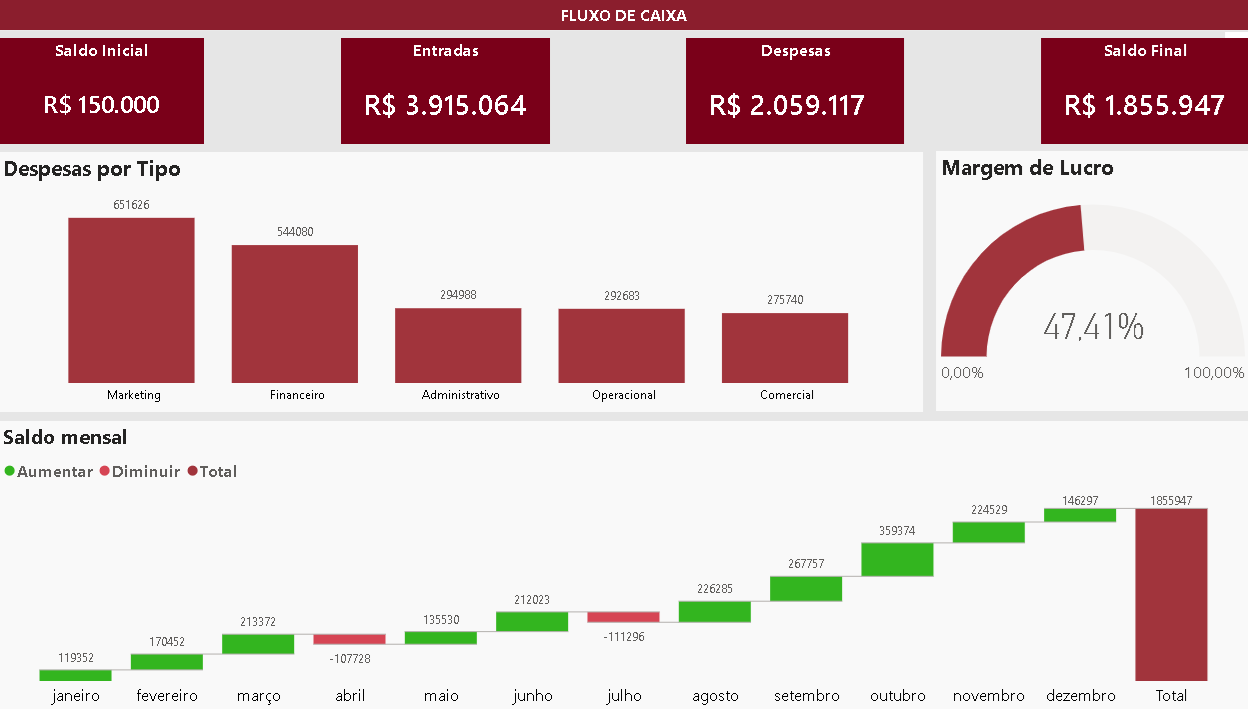

The dashboard page shown, as its layout file describes it:
{"tool":"powerbi","page":{"name":"Página 1","canvas":[1280,720],"ordinal":0},"visuals":[{"type":"columnChart","title":"Despesas por Tipo","fields":{"Category":["movimentacoes.centro_custos"],"Y":["movimentacoes.Despesas"]},"box":[19.7,155.8,925.1,259.7],"z":0},{"type":"waterfallChart","title":"Saldo mensal","fields":{"Category":["calendario.nome_mes"],"Y":["movimentacoes.Saldocascata"]},"box":[19.9,424.9,1252,295.6],"z":1000},{"type":"gauge","title":"Margem de Lucro","fields":{"Y":["movimentacoes.margemlucro"]},"box":[958.2,155.5,313.7,259.4],"z":2000},{"type":"cardVisual","title":"Saldo Inicial","fields":{"Data":["movimentacoes.Saldo Inicial Formatado"]},"box":[19.9,42.5,206.1,105.8],"z":3000},{"type":"shape","box":[20,2,1252,33],"z":4000},{"type":"cardVisual","title":"Entradas","fields":{"Data":["movimentacoes.Entradas Formatado"]},"box":[362.8,42.5,208.8,105.8],"z":5000},{"type":"cardVisual","title":"Despesas","fields":{"Data":["movimentacoes.Despesas Formatado"]},"box":[708.4,42.5,217.9,105.8],"z":6000},{"type":"cardVisual","title":"Saldo Final","fields":{"Data":["movimentacoes.Saldo Final Formatado"]},"box":[1063.1,42.5,208.8,105.8],"z":7000}]}

Visuals, with their boxes in screenshot pixels (x1, y1, x2, y2), scaled from the page's 1280x720 canvas onto the 1248x709 screenshot:
"Despesas por Tipo" columnChart: left=19, top=153, right=921, bottom=409
"Saldo mensal" waterfallChart: left=19, top=418, right=1240, bottom=708
"Margem de Lucro" gauge: left=934, top=153, right=1240, bottom=409
"Saldo Inicial" cardVisual: left=19, top=42, right=220, bottom=146
shape: left=20, top=2, right=1240, bottom=34
"Entradas" cardVisual: left=354, top=42, right=557, bottom=146
"Despesas" cardVisual: left=691, top=42, right=903, bottom=146
"Saldo Final" cardVisual: left=1037, top=42, right=1240, bottom=146
